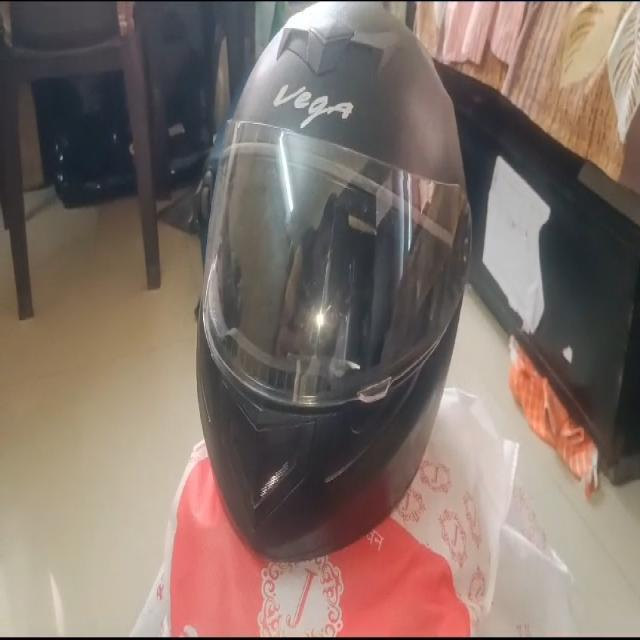Helmet: (195, 4, 472, 569)
